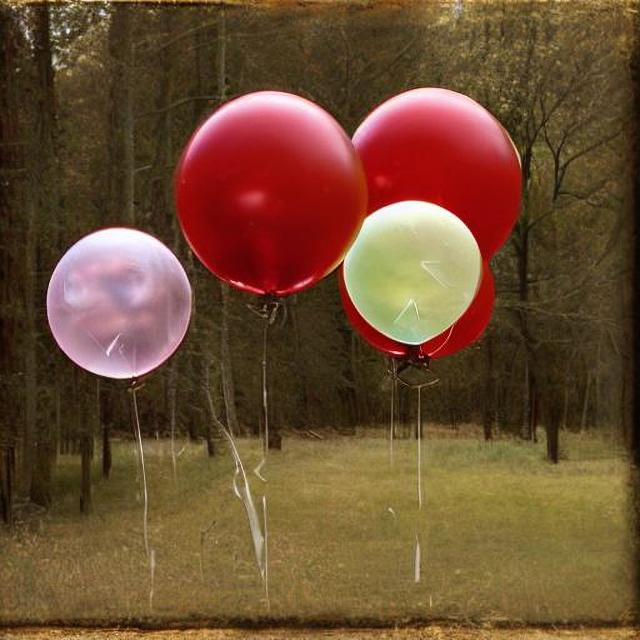balloon: (179, 78, 525, 358), (168, 89, 388, 300), (40, 222, 189, 378)
